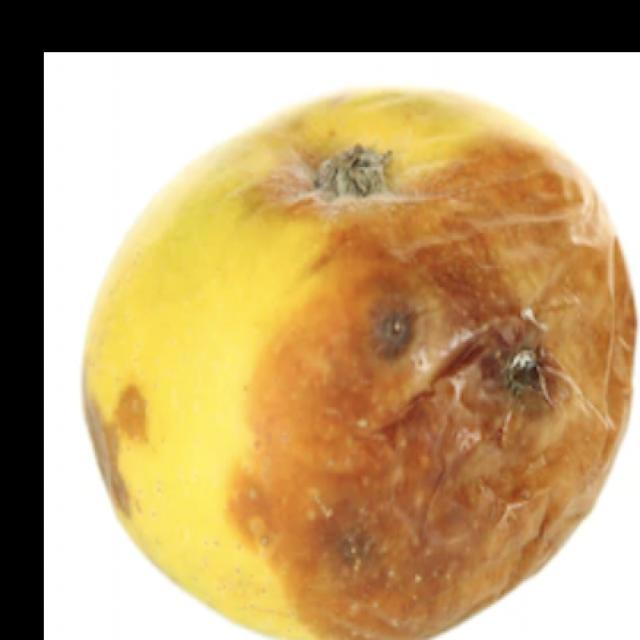Rotten: (126, 106, 640, 640)
